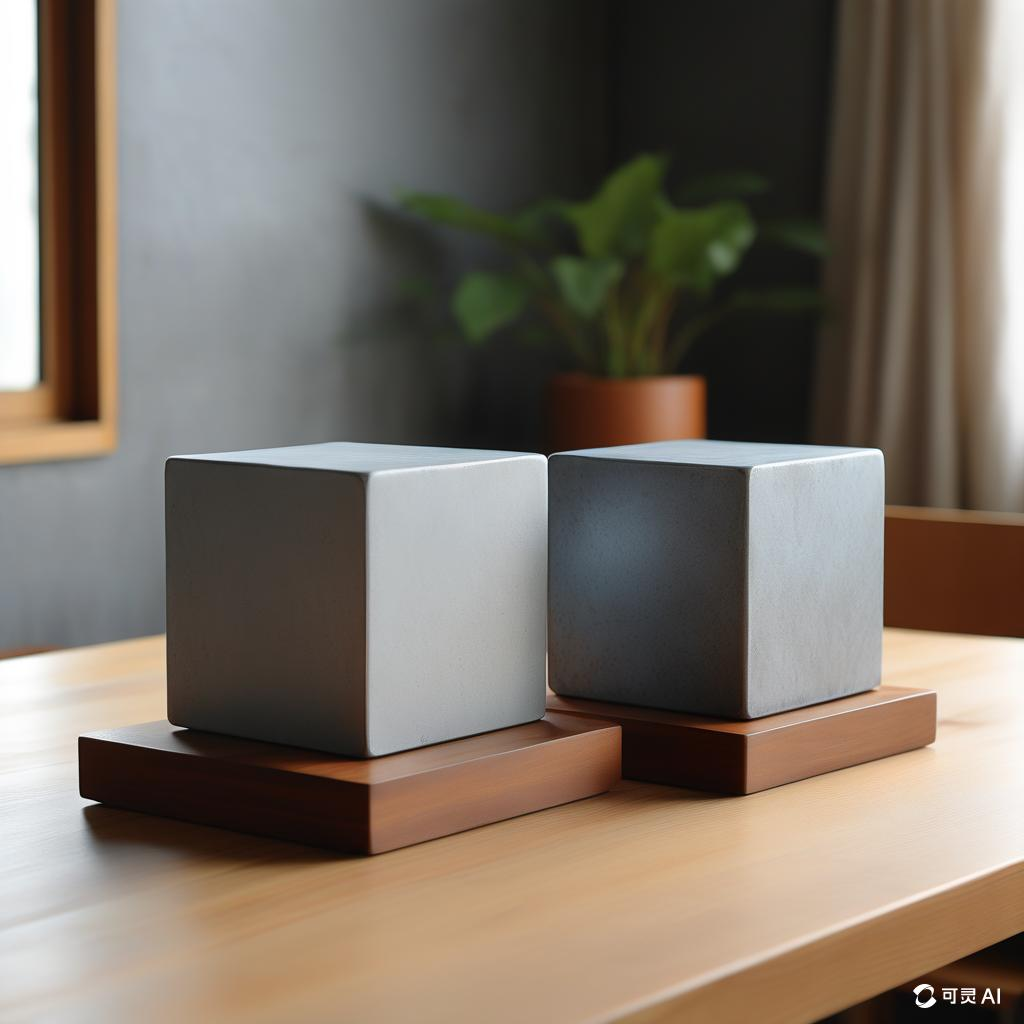cube: (163, 439, 548, 759), (546, 436, 886, 720)
